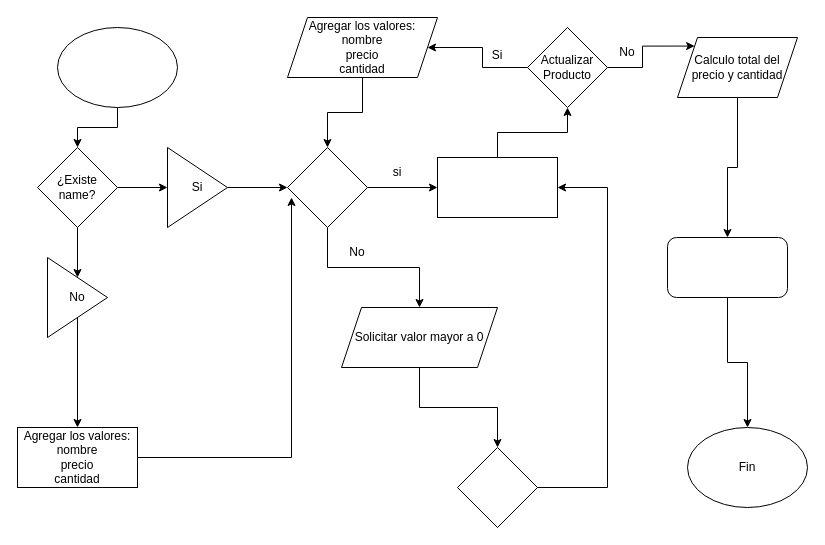
Some shapes in this 825 by 545 pixel diagram are drawn without their labels. Here are the shapes that lost their labels. From the top down, the box of each, then its label:
(56, 26, 178, 108): Inicio
(286, 146, 368, 228): Precio o cantidad valido
(436, 156, 558, 218): Mostrar los valores: nombre precio cantidad
(666, 236, 788, 298): Mostrar datos
(456, 446, 538, 528): correcto
